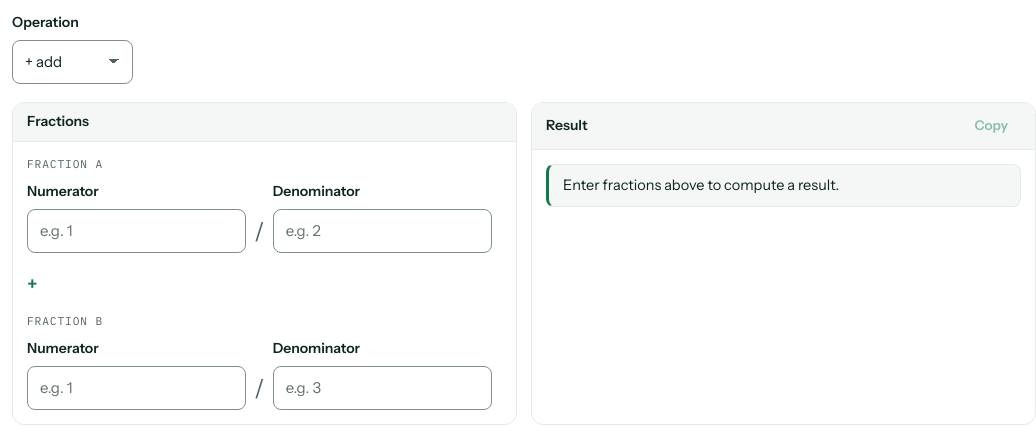
Test: FractionCalculator › computes 1/2 + 1/3 = 5/6
Fraction A
Type "1" into the number field labelled "Numerator" below "Fraction A" at point(136, 231), box [27,209,246,253]
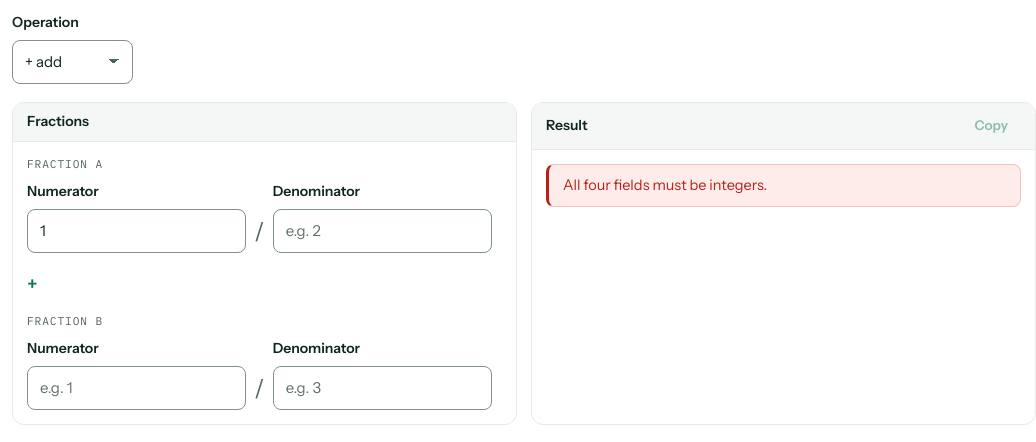
Type "2" into the number field labelled "Denominator" below "Fraction A" at point(382, 231), box [273,209,492,253]
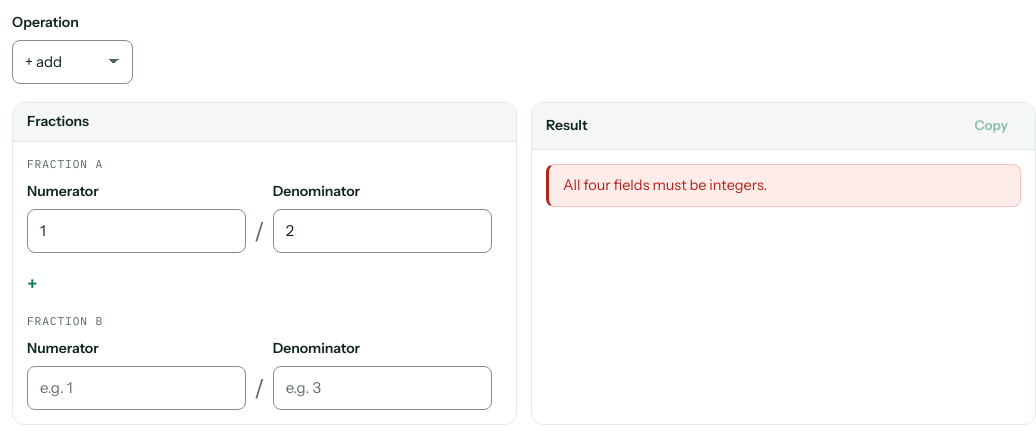
Fraction B
Type "1" into the number field labelled "Numerator" below "Fraction B" at point(136, 388), box [27,366,246,410]
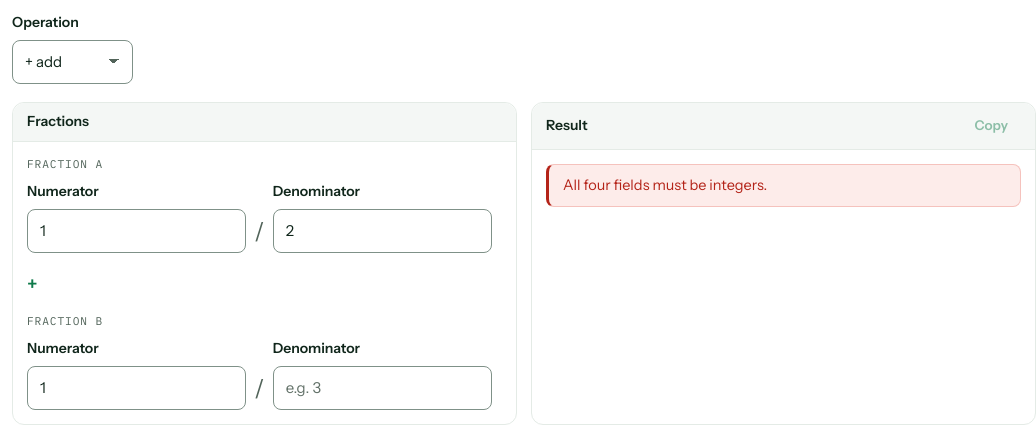
Type "3" into the number field labelled "Denominator" below "Fraction B" at point(382, 388), box [273,366,492,410]
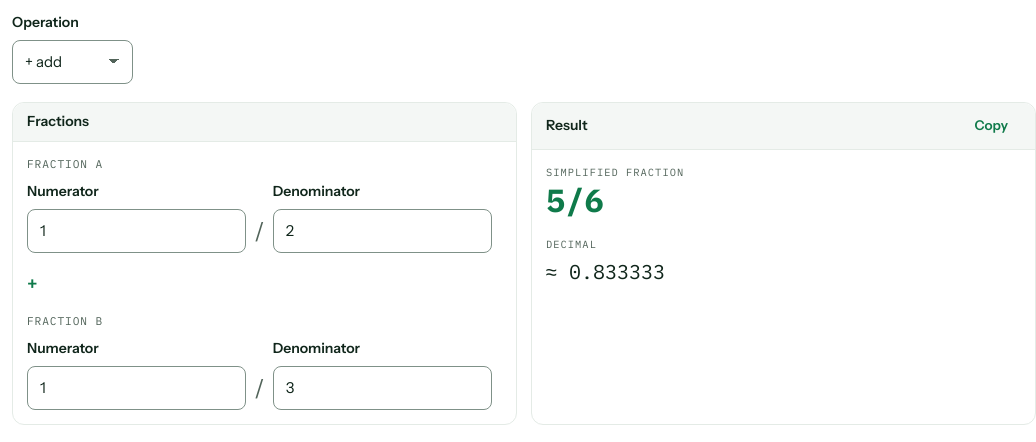
Check: the text "5/6" is shown, box [546,179,604,221]
